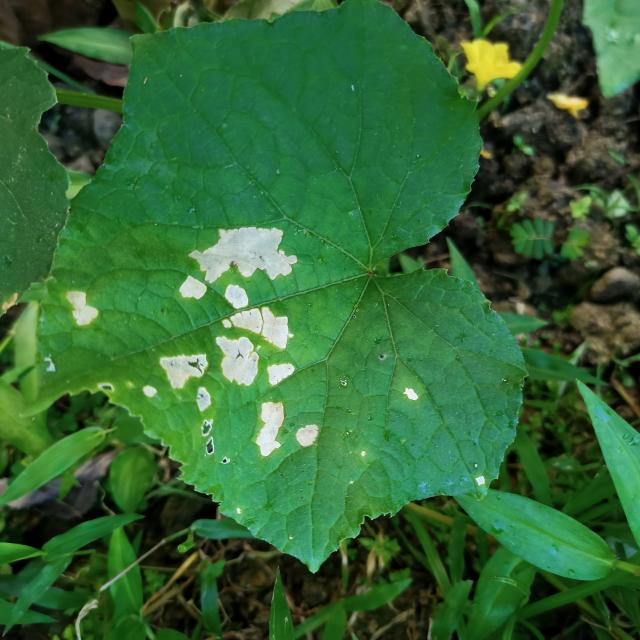disease_cucumber: (160, 224, 322, 470), (58, 286, 108, 339), (400, 384, 426, 404)
